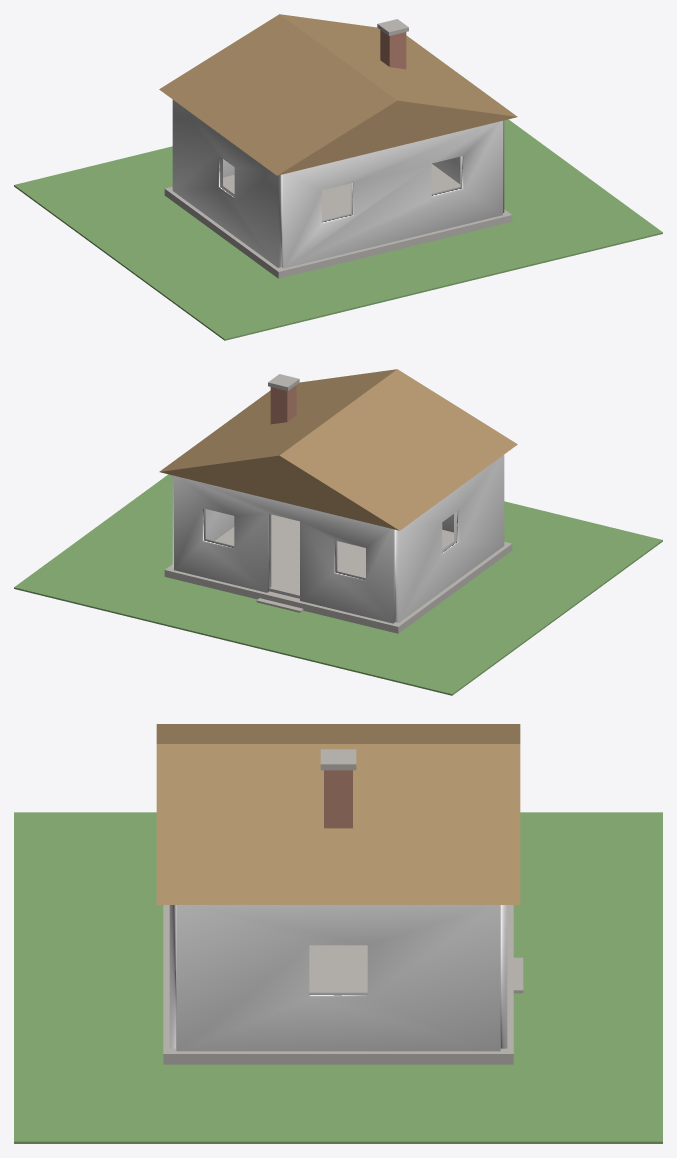
Rendered from cottage_shell.glb.
The picture shows the model from 3 angles, top to bottom: view 1: azimuth 30°, elevation 25°; view 2: azimuth 150°, elevation 25°; view 3: azimuth 270°, elevation 25°; orthographic projection. The views are drawn at different scales.
Parts seen in each view (by area): view 1: ground, roof, back_wall, left_wall, foundation, floor, chimney, right_wall; view 2: ground, roof, front_wall, left_wall, floor, foundation, chimney, right_wall; view 3: ground, roof, right_wall, foundation, floor, chimney, front_wall, back_wall, chimney_cap.
Part boxes in pixels (<box>): ground: <box>14,119,662,340</box>; roof: <box>159,14,517,175</box>; back_wall: <box>281,120,502,268</box>; left_wall: <box>172,100,281,267</box>; foundation: <box>164,187,512,278</box>; floor: <box>223,164,460,220</box>; chimney: <box>380,30,406,69</box>; right_wall: <box>432,120,504,212</box>; ground: <box>14,474,662,695</box>; roof: <box>159,369,517,530</box>; front_wall: <box>174,475,395,623</box>; left_wall: <box>395,455,504,622</box>; floor: <box>215,514,453,598</box>; foundation: <box>164,542,512,633</box>; chimney: <box>270,385,296,424</box>; right_wall: <box>172,475,234,567</box>; ground: <box>14,812,662,1143</box>; roof: <box>156,724,520,904</box>; right_wall: <box>176,905,500,1051</box>; foundation: <box>163,905,513,1064</box>; floor: <box>309,945,367,992</box>; chimney: <box>324,770,352,828</box>; front_wall: <box>500,905,507,1048</box>; back_wall: <box>169,905,176,1048</box>; chimney_cap: <box>320,749,356,770</box>.
Bounding box in the file's own units: 12 × 4.48 × 10.
